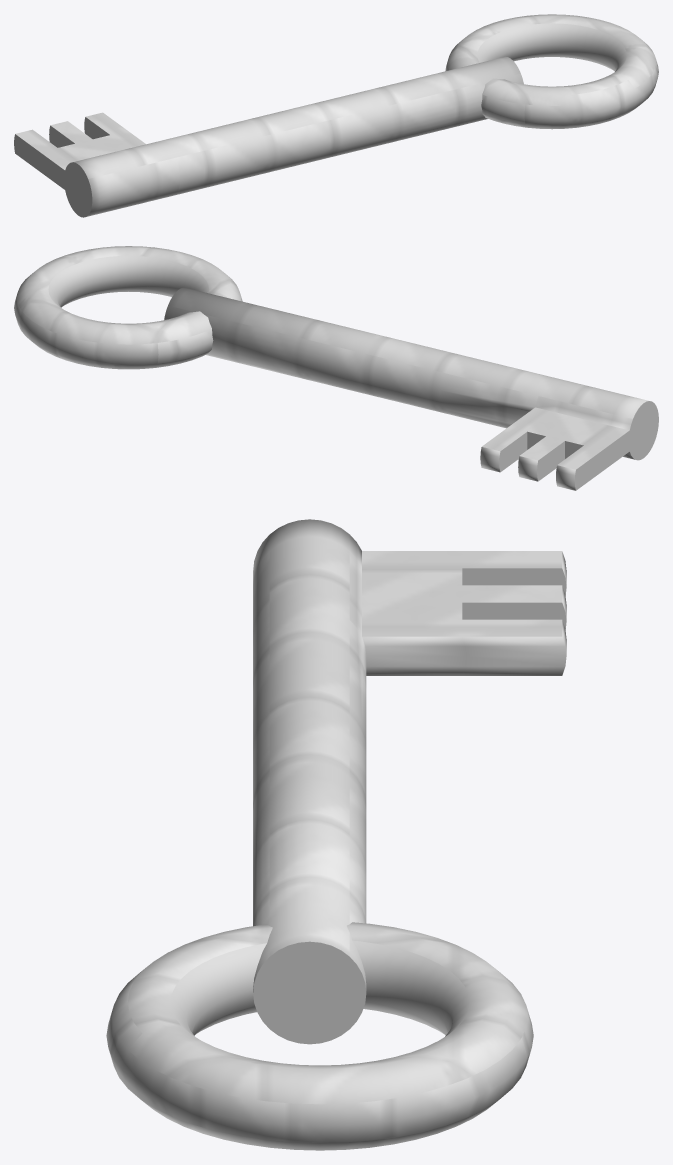
File: keyfbx.fbx
3 renders of one model, top to bottom at view 1: azimuth 30°, elevation 25°; view 2: azimuth 150°, elevation 25°; view 3: azimuth 270°, elevation 25°, orthographic. The views are drawn at different scales.
Visible parts, largest first — view 1: Cylinder; view 2: Cylinder; view 3: Cylinder.
Boxes of the visible parts, left/top/right/bottom form: Cylinder: left=14, top=14, right=658, bottom=217; Cylinder: left=14, top=246, right=658, bottom=490; Cylinder: left=106, top=519, right=566, bottom=1150.
Bounding box in the file's own units: 295 × 25.45 × 103.
